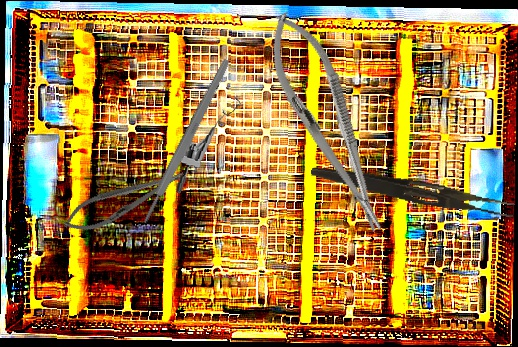Dressing Forceps: (308, 163, 517, 219)
Needle Holder: (253, 3, 403, 243), (58, 160, 191, 241)
Scalpel Handle: (139, 57, 232, 226)
Speculum: (174, 80, 243, 199)
